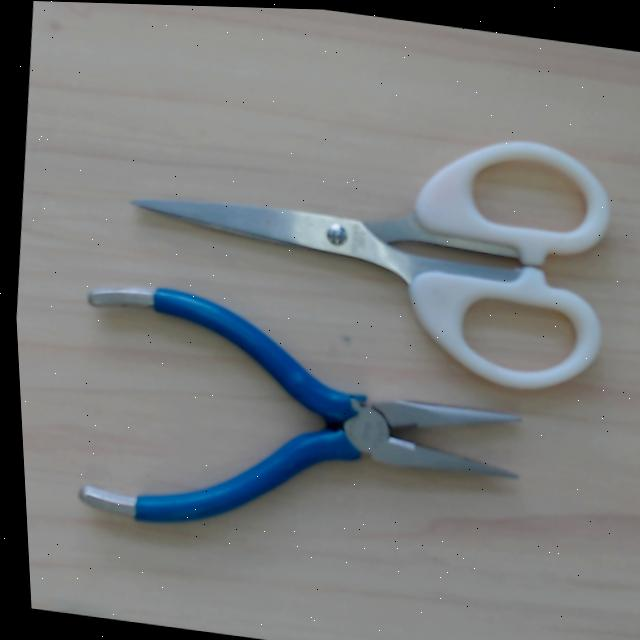Gunting: (122, 115, 611, 392)
Tang-Jepit-Biru: (77, 285, 522, 536)
